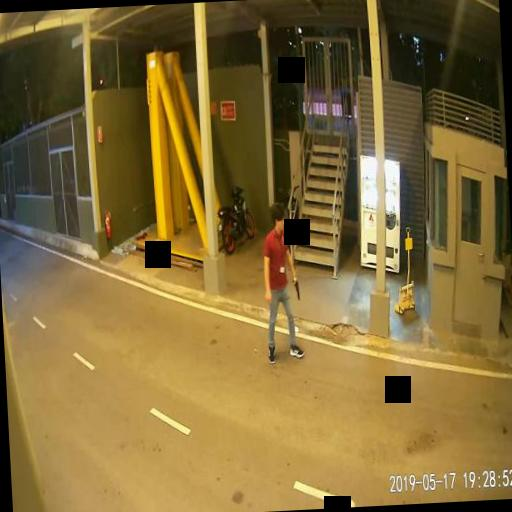Handgun: (292, 276, 298, 298)
